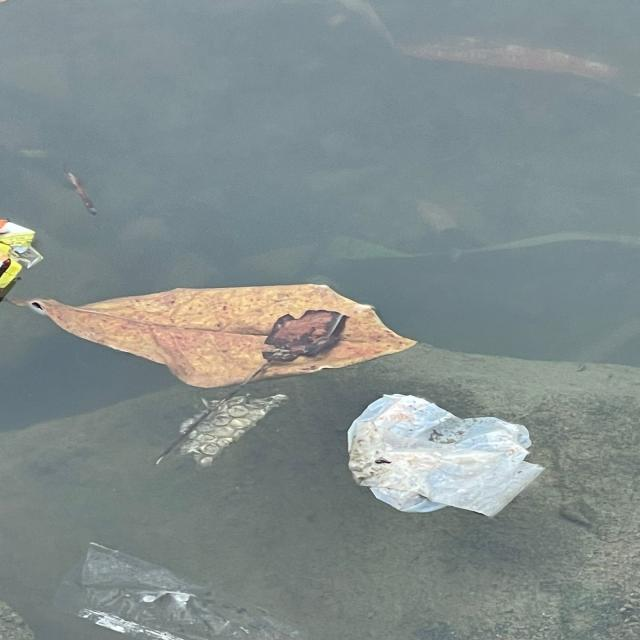Kantong Plastik: (10, 522, 342, 640), (339, 384, 546, 534)
